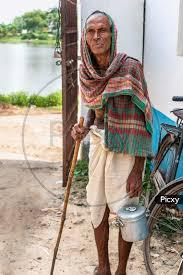Human: (69, 12, 153, 275)
